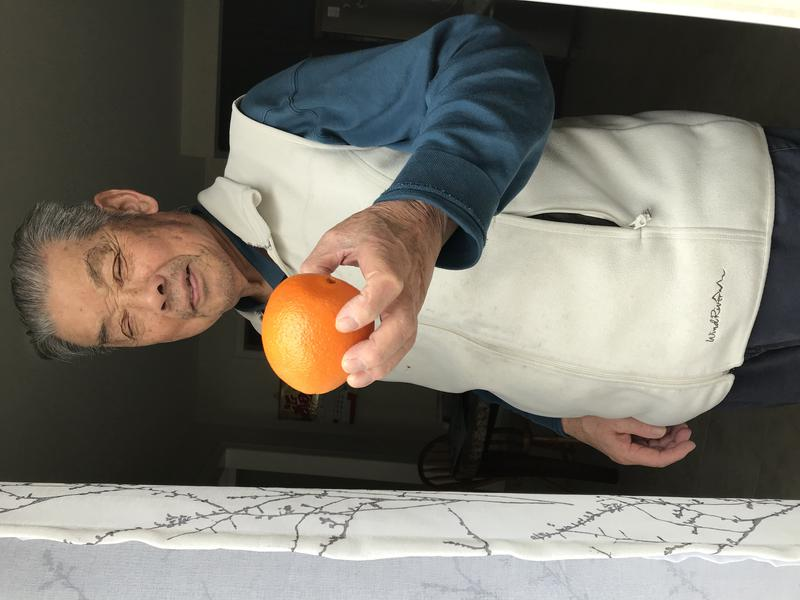orange: (251, 269, 387, 404)
